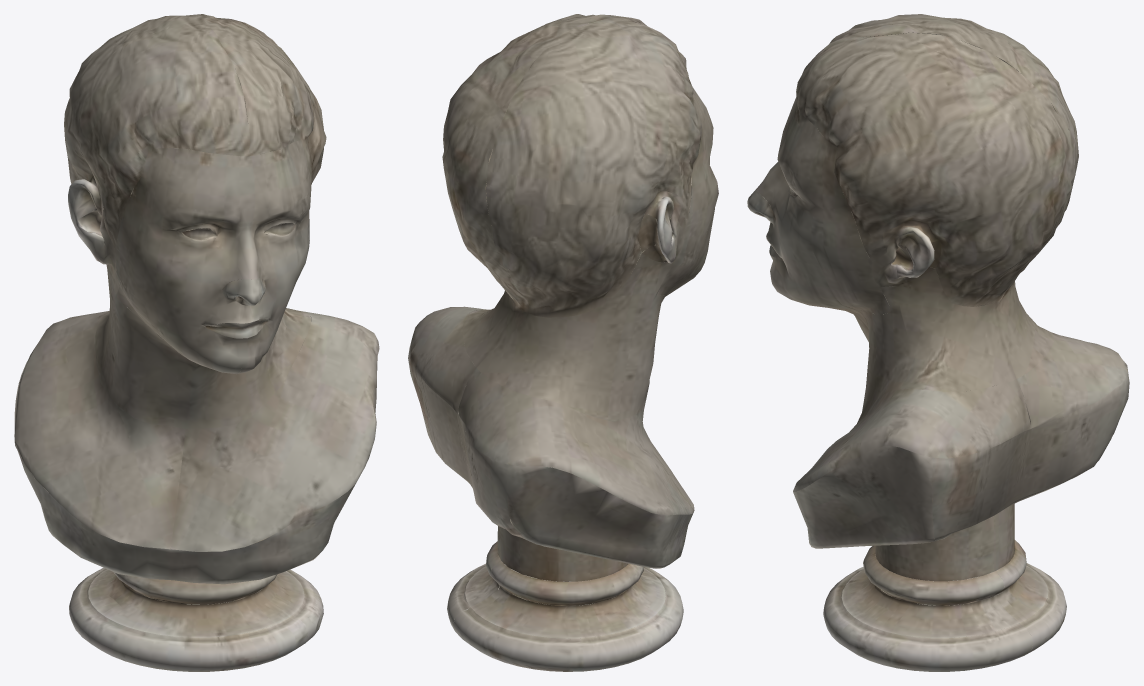
File: ph_marble_bust_01.glb
The picture shows the model from 3 angles, left to right: view 1: azimuth 30°, elevation 25°; view 2: azimuth 150°, elevation 25°; view 3: azimuth 270°, elevation 25°; orthographic projection. The views are drawn at different scales.
Visible parts, largest first — view 1: marble_bust_01; view 2: marble_bust_01; view 3: marble_bust_01.
Boxes of the visible parts, left/top/right/bottom form: marble_bust_01: left=14, top=14, right=379, bottom=671; marble_bust_01: left=408, top=14, right=718, bottom=671; marble_bust_01: left=747, top=14, right=1129, bottom=671.
Size of the model in its own units: 0.2716 by 0.5153 by 0.2996.
1 material, 1 textured.
